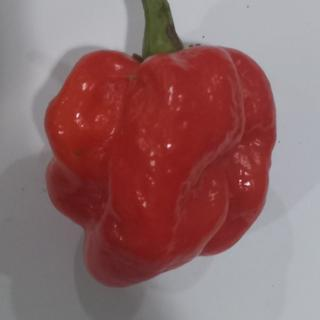Grade-B: (43, 44, 280, 286)
